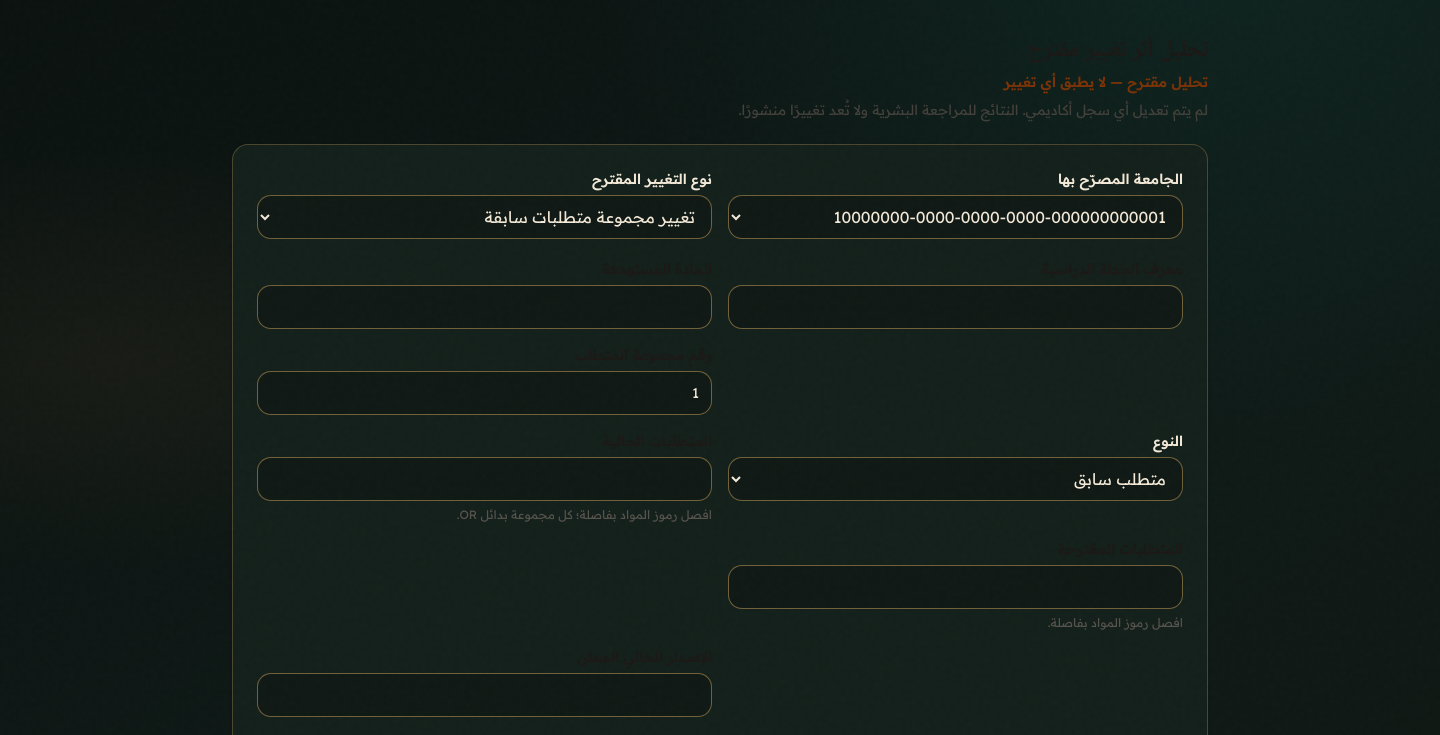
shows text-only UNKNOWN status
Check: the dropdown labelled "الجامعة المصرّح بها" is shown, box [728,195,1183,239]
Select "تغيير إصدار لائحة" in the dropdown labelled "نوع التغيير المقترح" at (484, 217), box [257,195,712,239]
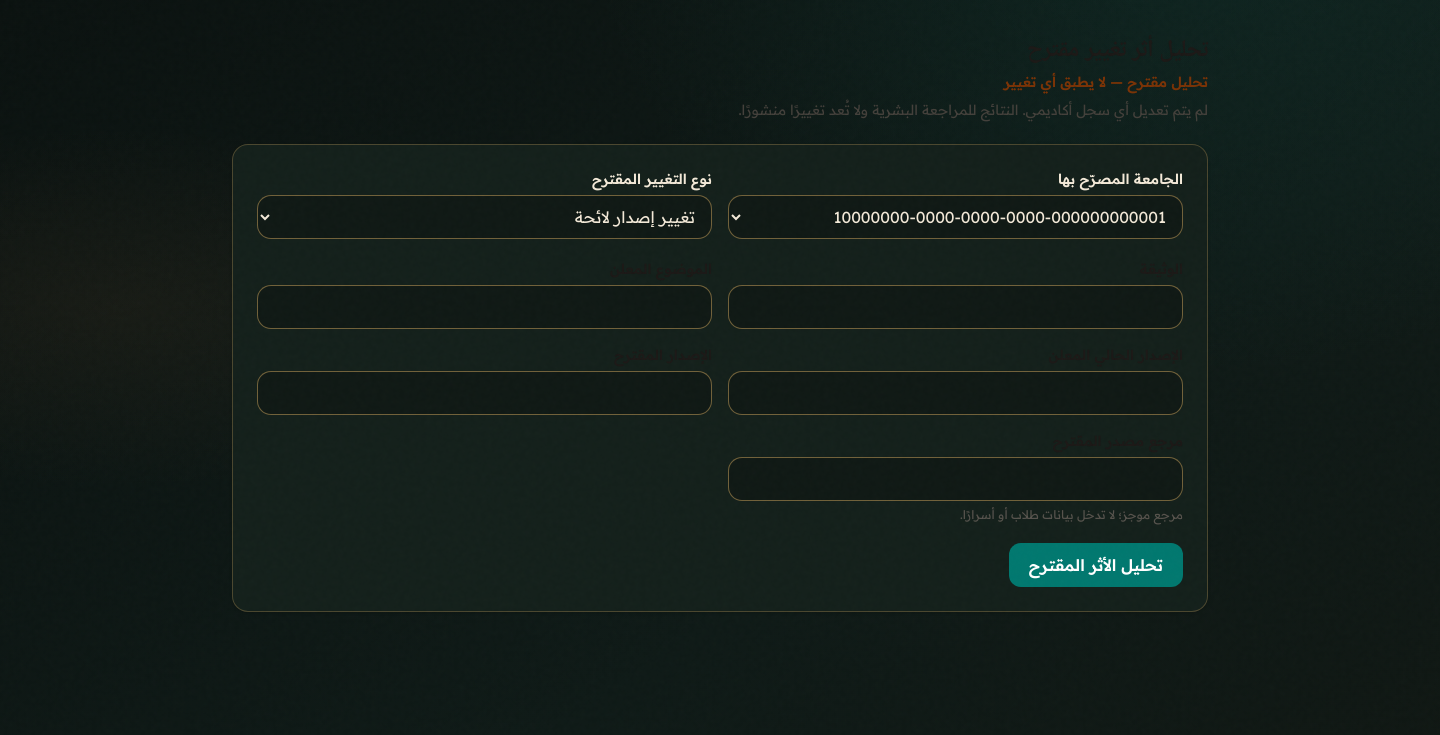
Type "POLICY-A" into the field labelled "الوثيقة" at (956, 307), box [728,285,1183,329]
Type "admission" into the field labelled "الموضوع المعلن" at (484, 307), box [257,285,712,329]
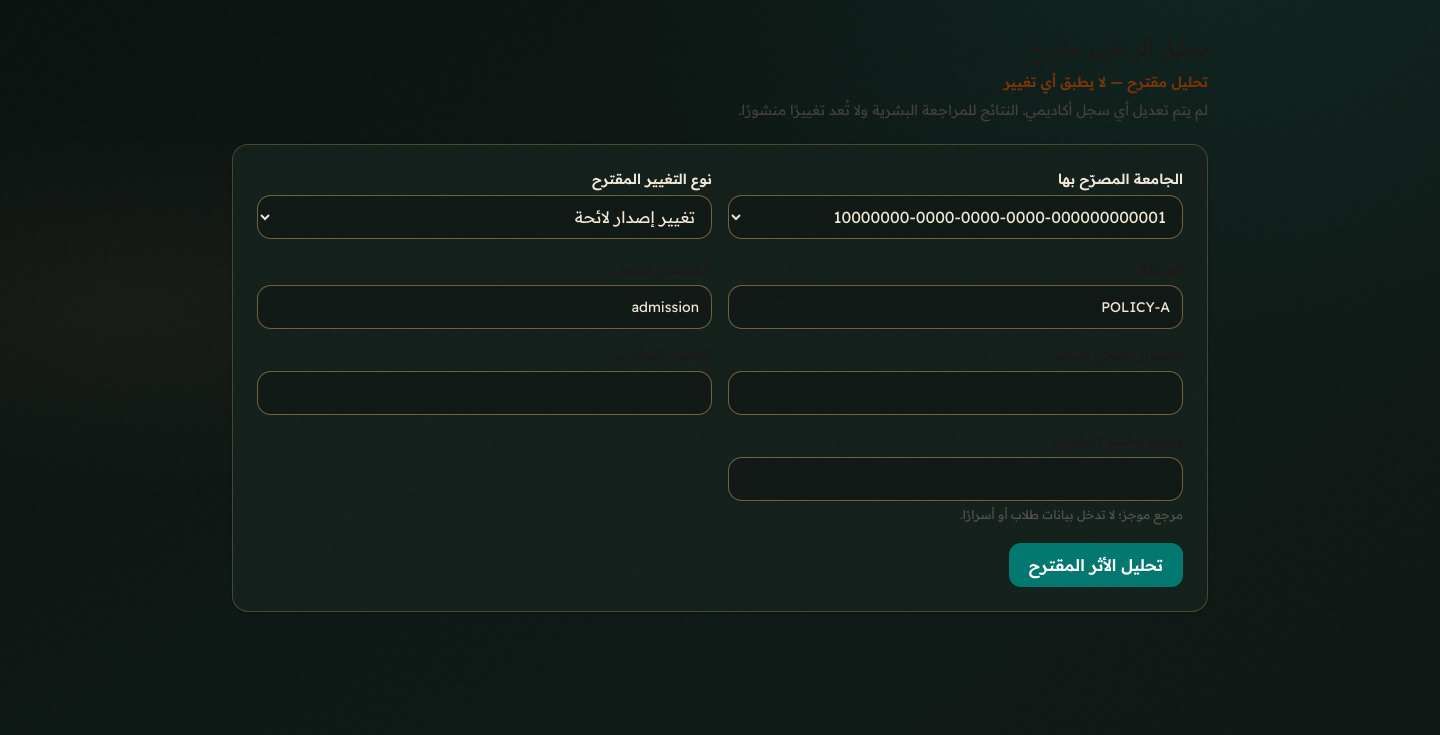
Type "v1" into the field labelled "الإصدار الحالي المعلن" at (956, 393), box [728,371,1183,415]
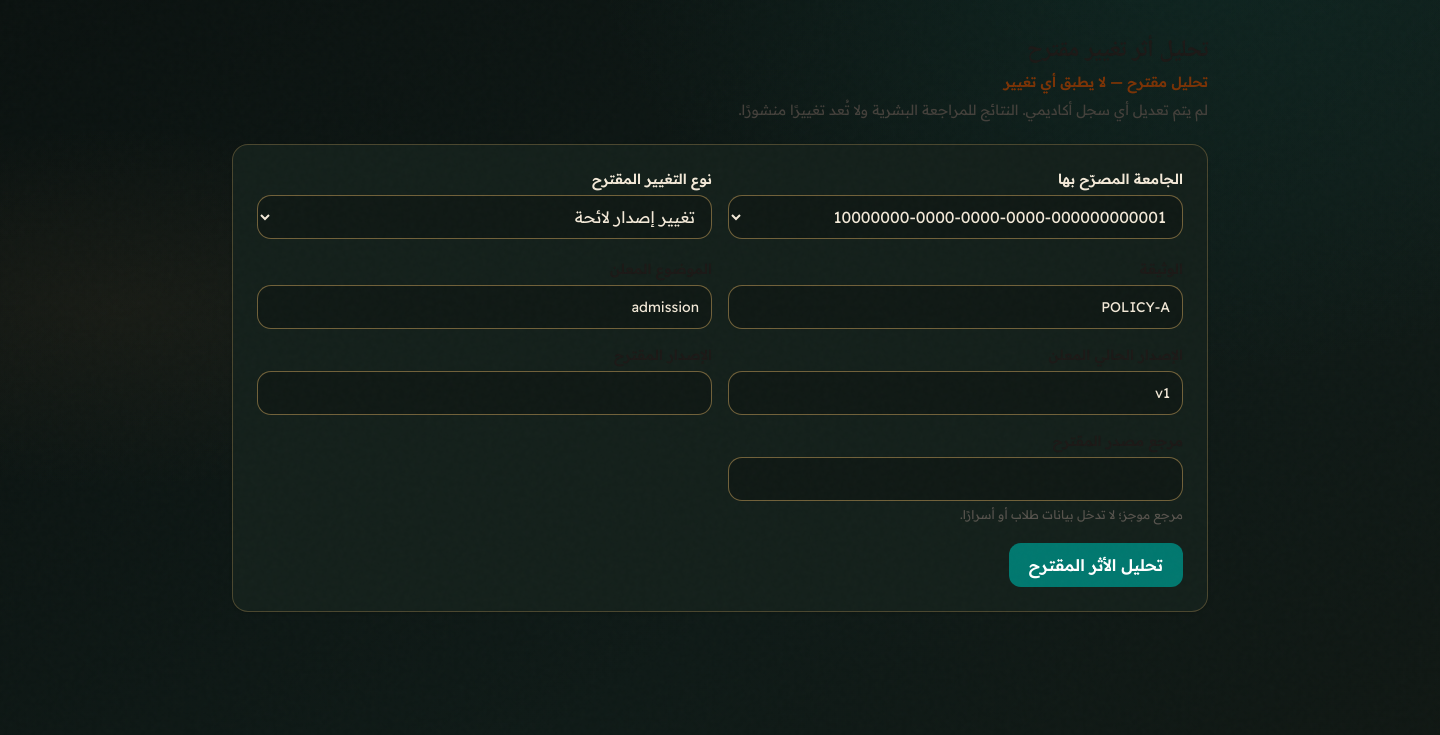
Type "v2" into the field labelled "الإصدار المقترح" at (484, 393), box [257,371,712,415]
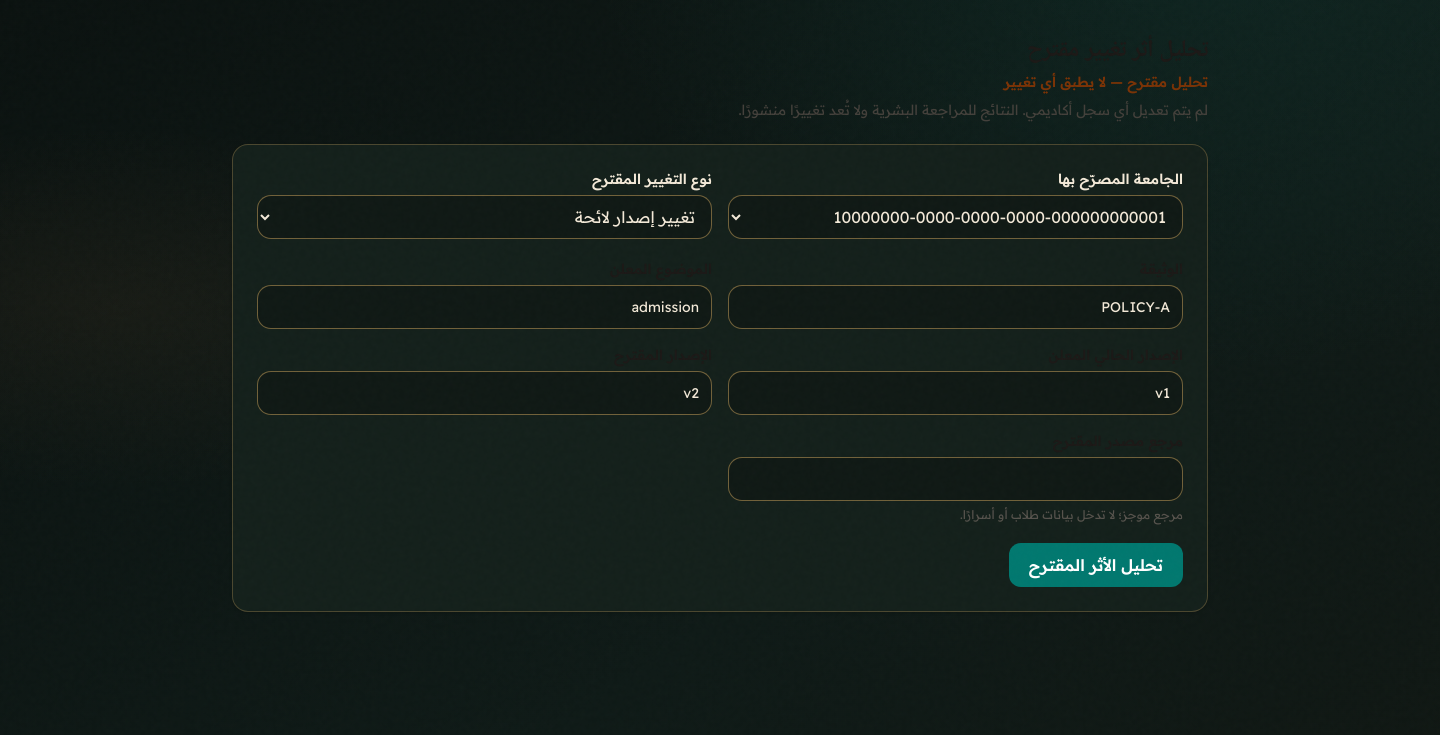
Type "proposal" into the field labelled "مرجع مصدر المقترح" at (956, 479), box [728,457,1183,501]
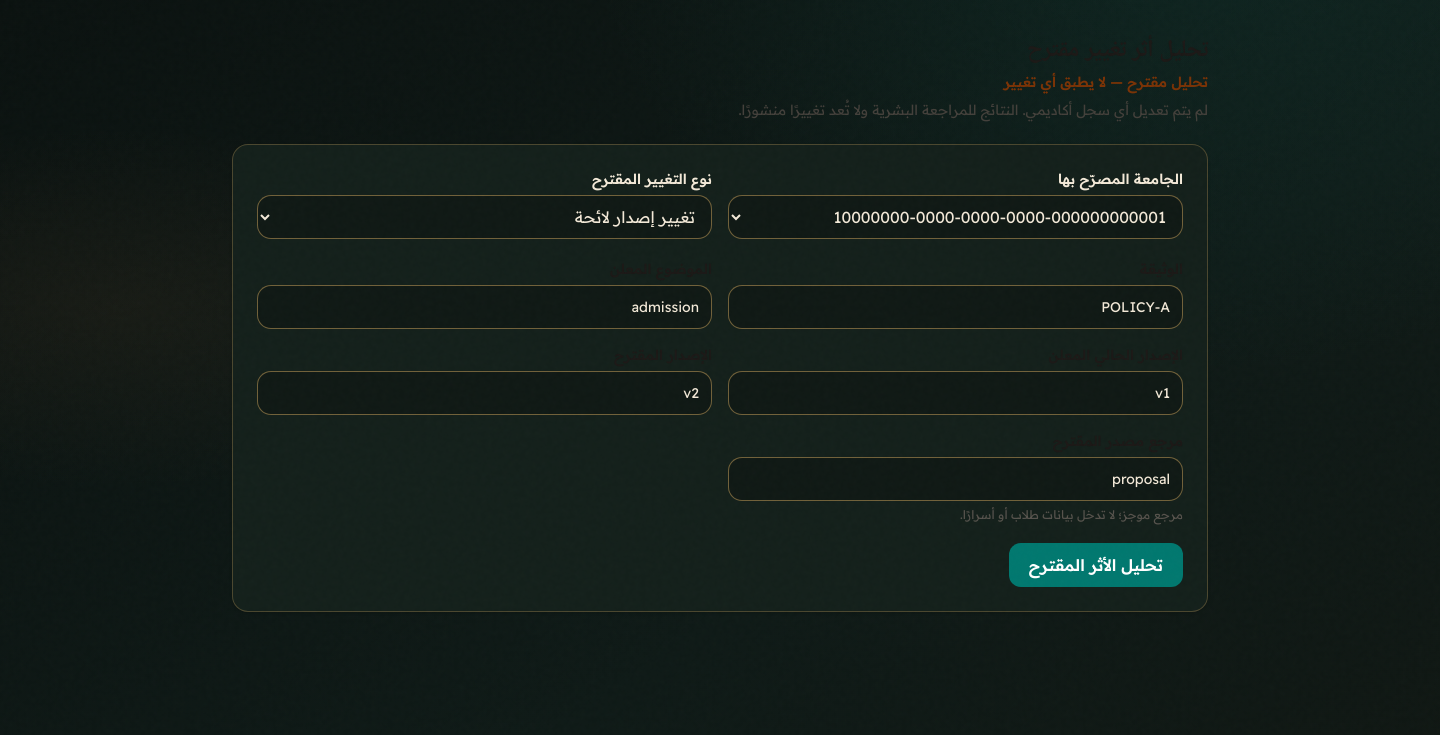
Click the button "تحليل الأثر المقترح" at (1096, 565), box [1009,543,1183,587]
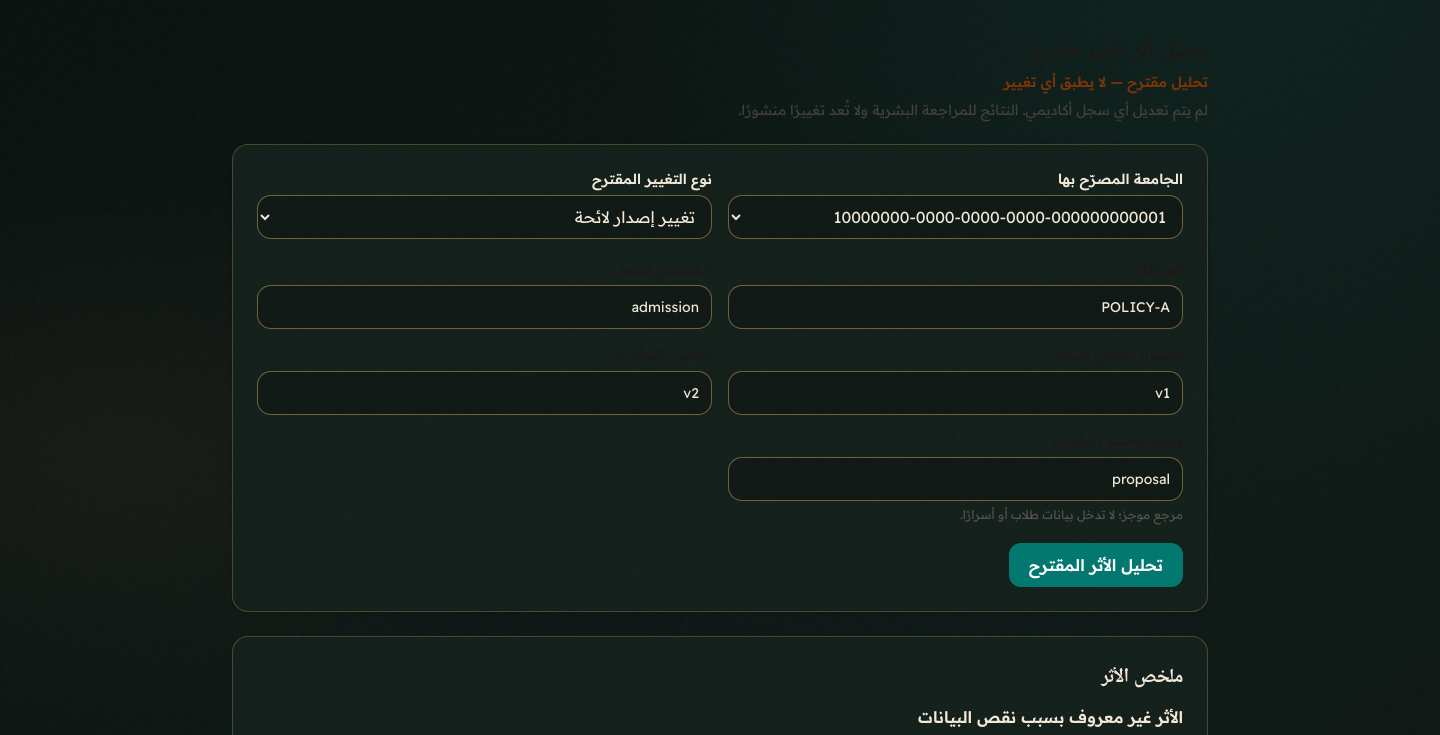
Check: the heading "ملخص الأثر" is shown, box [1101,664,1183,686]
Check: the text "الأثر غير معروف بسبب نقص البيانات" is shown, box [918,707,1183,727]
